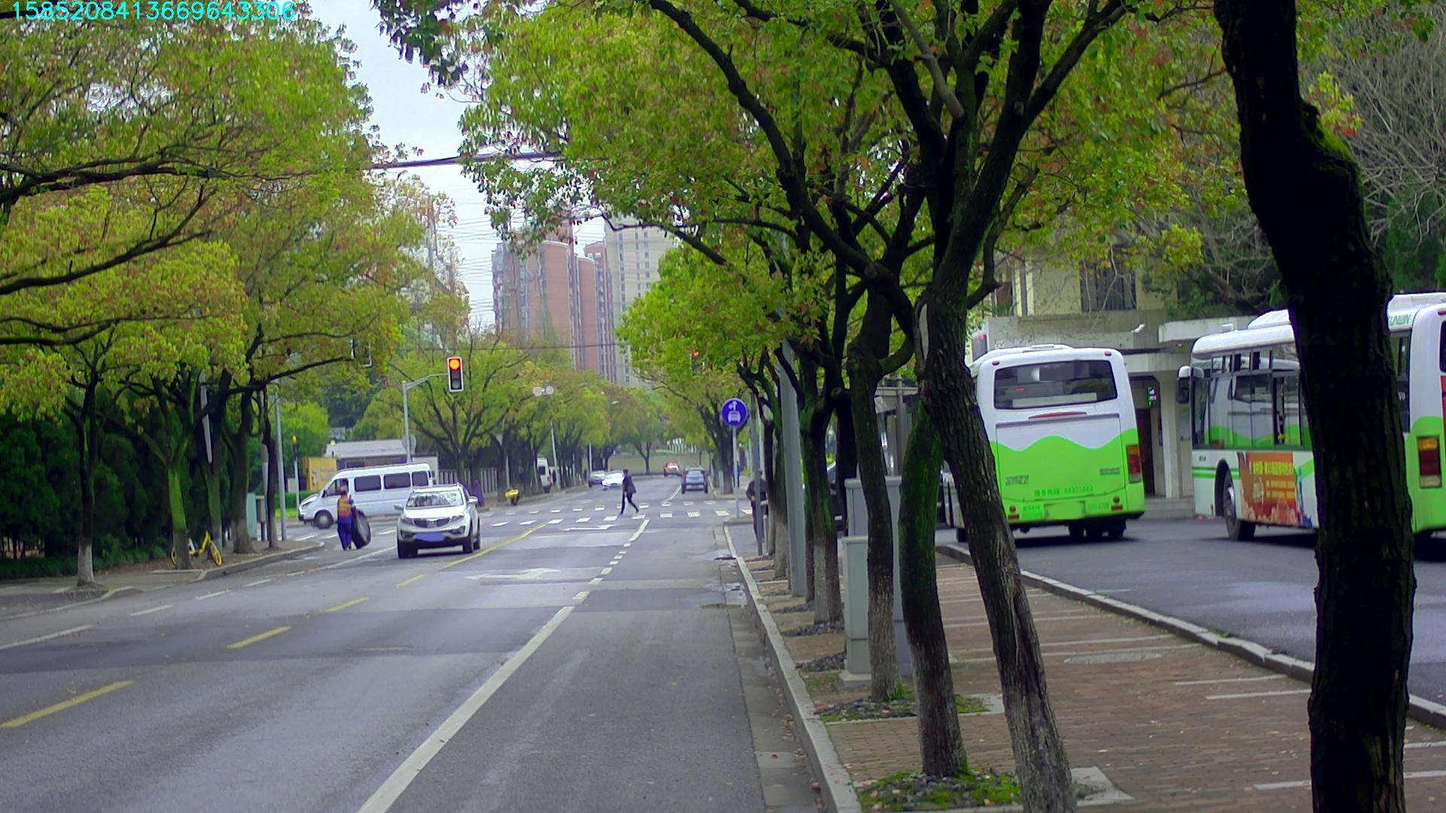red: (448, 358, 461, 390)
